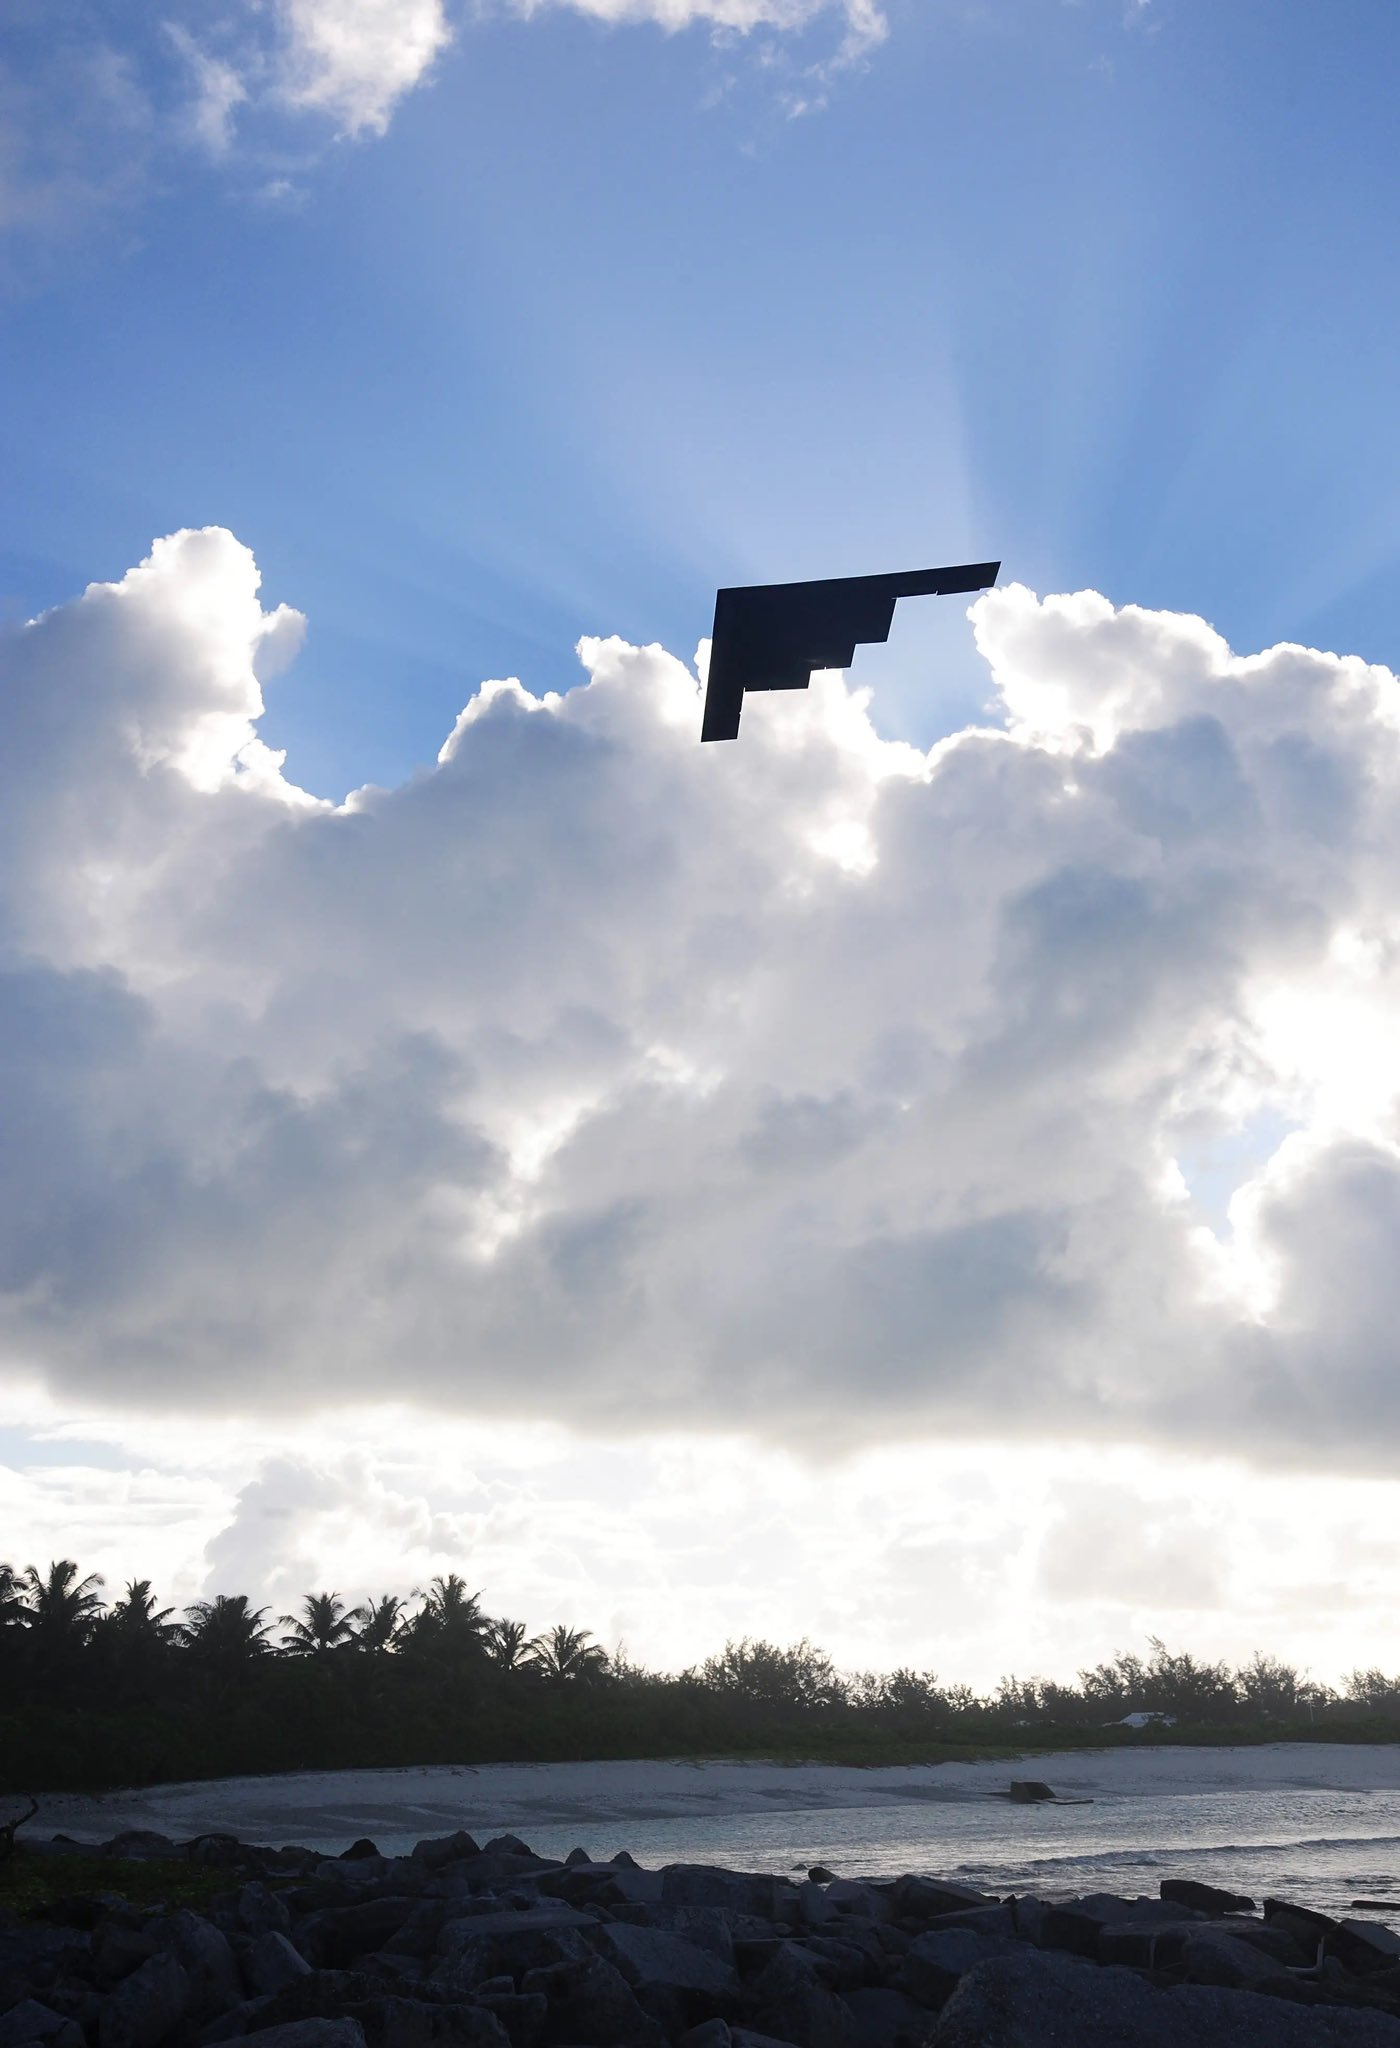B2: (700, 560, 1002, 742)
